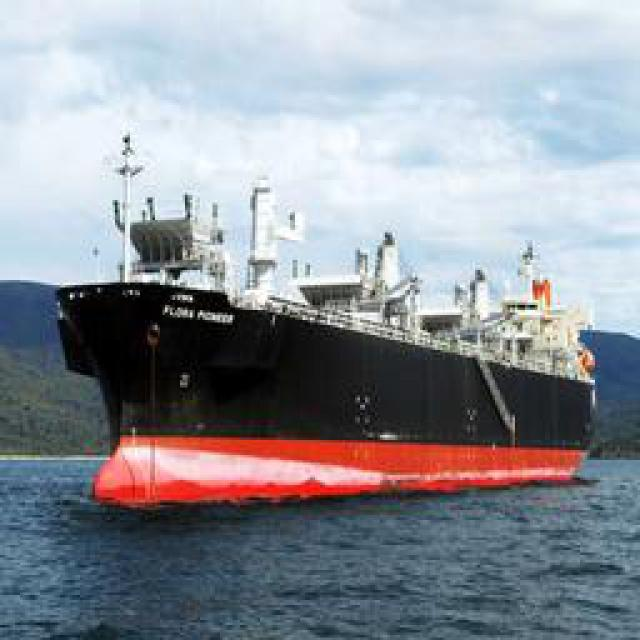Ship: (65, 263, 613, 511)
